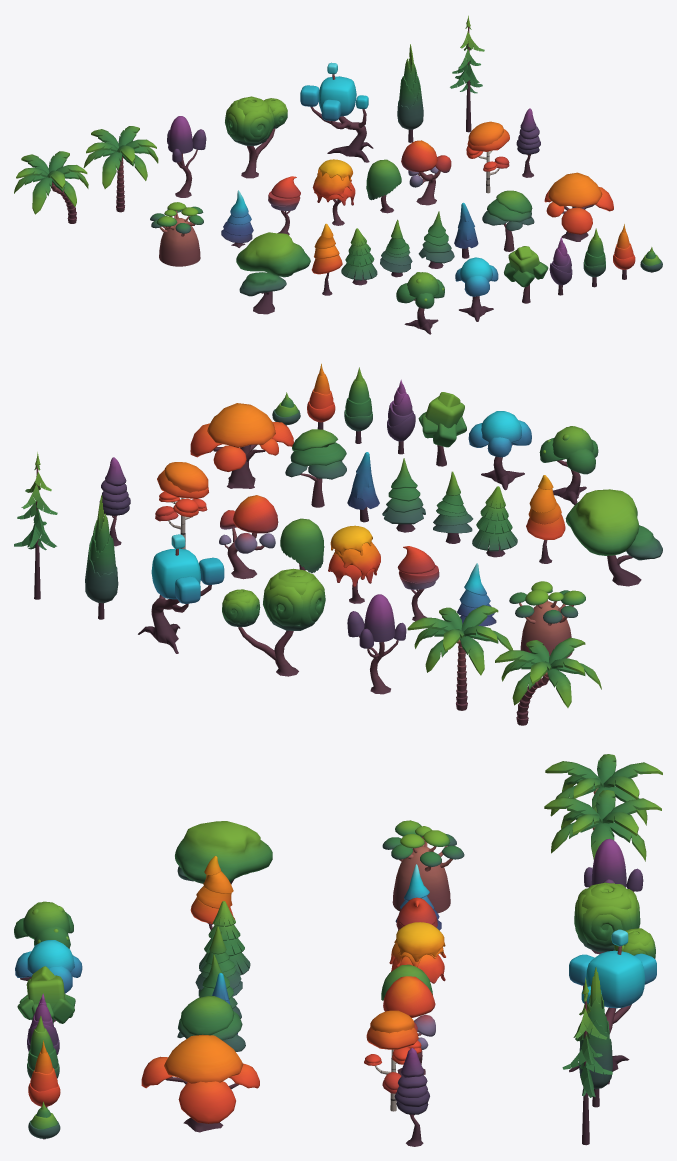
File: AgacSet.fbx
The picture shows the model from 3 angles, top to bottom: view 1: azimuth 30°, elevation 25°; view 2: azimuth 150°, elevation 25°; view 3: azimuth 270°, elevation 25°; orthographic projection. The views are drawn at different scales.
Parts seen in each view (by area): view 1: agac3, agac6, agac7, agac24, agac1, agac, agac2, agac11, agac23, agac13, agac17, agac9 (+17 smaller); view 2: agac7, agac3, agac24, agac6, agac1, agac, agac2, agac11, agac23, agac9, agac8, agac18 (+18 smaller); view 3: agac24, agac3, agac6, agac7, agac2, agac1, agac, agac9, agac13, agac23, agac11, agac4 (+17 smaller).
Boxes of the visible parts, x1=… form: agac3: x1=236, y1=232, x2=310, y2=314; agac6: x1=300, y1=62, x2=373, y2=162; agac7: x1=225, y1=96, x2=287, y2=178; agac24: x1=544, y1=172, x2=613, y2=241; agac1: x1=83, y1=126, x2=158, y2=212; agac: x1=14, y1=151, x2=88, y2=223; agac2: x1=150, y1=202, x2=203, y2=266; agac11: x1=401, y1=140, x2=451, y2=205; agac23: x1=482, y1=190, x2=534, y2=251; agac13: x1=312, y1=159, x2=355, y2=225; agac17: x1=396, y1=272, x2=444, y2=334; agac9: x1=466, y1=121, x2=509, y2=193; agac7: x1=222, y1=568, x2=325, y2=676; agac3: x1=565, y1=489, x2=662, y2=586; agac24: x1=190, y1=403, x2=293, y2=488; agac6: x1=138, y1=534, x2=224, y2=653; agac1: x1=407, y1=605, x2=512, y2=710; agac: x1=495, y1=637, x2=601, y2=725; agac2: x1=509, y1=581, x2=585, y2=658; agac11: x1=219, y1=495, x2=278, y2=579; agac23: x1=285, y1=429, x2=346, y2=507; agac9: x1=155, y1=462, x2=208, y2=549; agac8: x1=347, y1=594, x2=406, y2=694; agac18: x1=468, y1=411, x2=531, y2=490; agac24: x1=141, y1=1034, x2=259, y2=1132; agac3: x1=175, y1=821, x2=272, y2=884; agac6: x1=569, y1=929, x2=656, y2=1084; agac7: x1=574, y1=882, x2=655, y2=958; agac2: x1=382, y1=820, x2=464, y2=913; agac1: x1=544, y1=790, x2=661, y2=861; agac: x1=545, y1=754, x2=662, y2=825; agac9: x1=364, y1=1010, x2=421, y2=1111; agac13: x1=389, y1=922, x2=445, y2=983; agac23: x1=177, y1=996, x2=245, y2=1051; agac11: x1=383, y1=976, x2=435, y2=1075; agac4: x1=562, y1=977, x2=612, y2=1145.
Size of the model in its own units: 4648 by 1152 by 3997.
